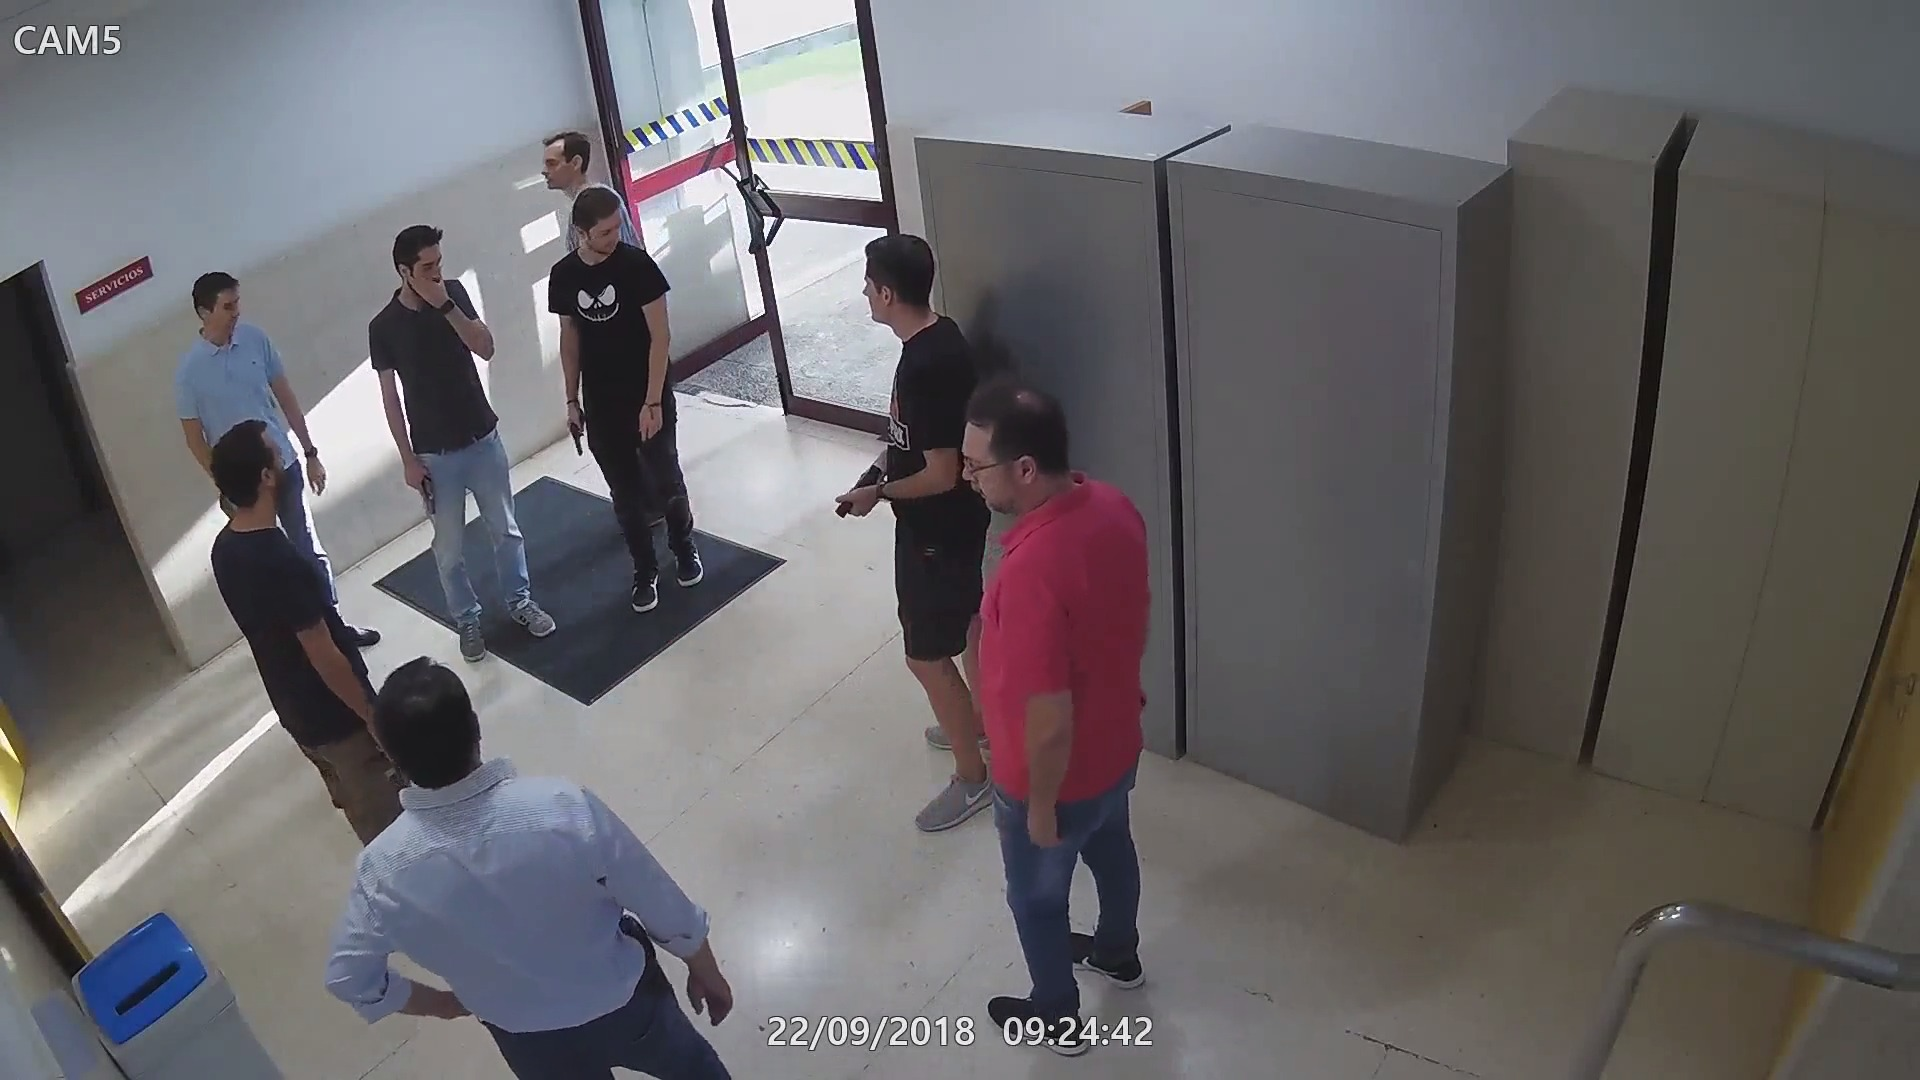Handgun: (831, 460, 884, 522), (621, 913, 666, 978), (400, 454, 442, 516), (560, 407, 589, 456)
